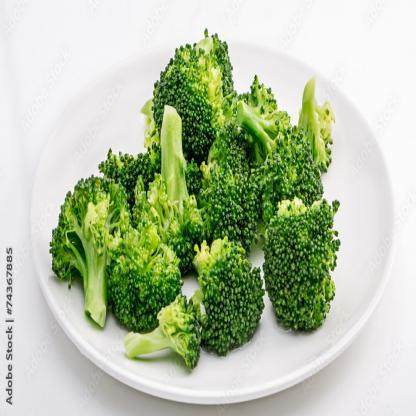broccoli: (45, 22, 341, 372)
